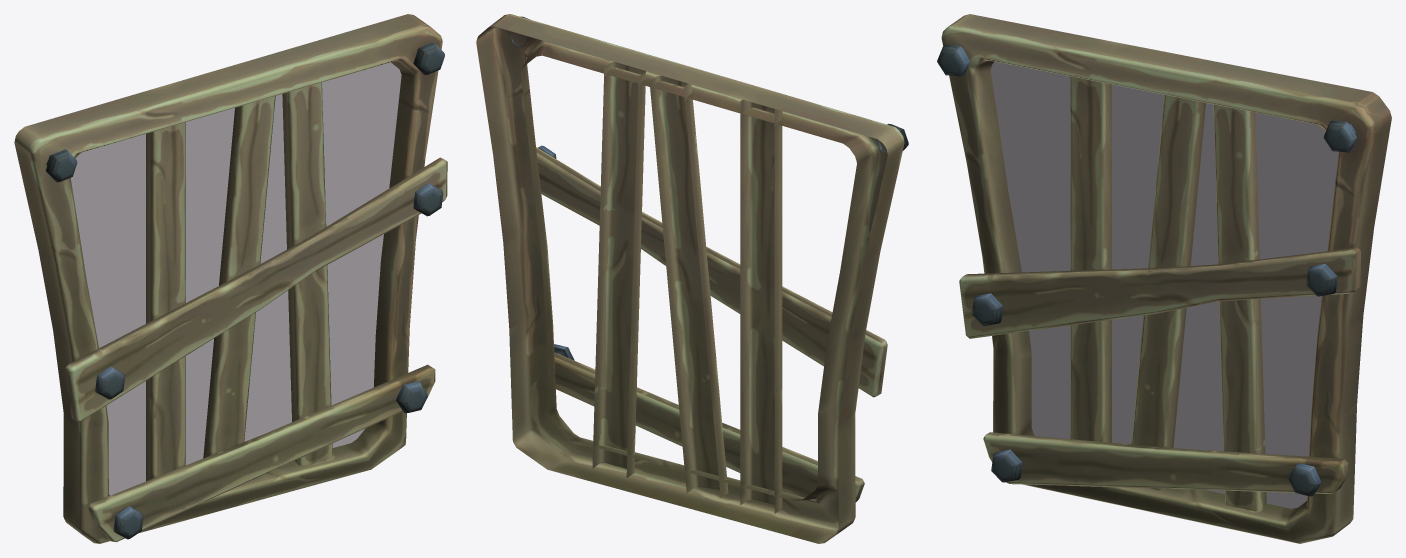
File: SM_Window_01.gltf
3 renders of one model, left to right at view 1: azimuth 30°, elevation 25°; view 2: azimuth 150°, elevation 25°; view 3: azimuth 330°, elevation 25°, orthographic. The views are drawn at different scales.
Parts seen in each view (by area): view 1: SM_Window_01; view 2: SM_Window_01; view 3: SM_Window_01.
Part boxes in pixels (x1,y1,x2,y2): SM_Window_01: (14, 14, 447, 543); SM_Window_01: (476, 14, 908, 543); SM_Window_01: (937, 14, 1391, 543).
Bounding box in the file's own units: 1.18 × 1.2 × 0.1885.
Materials: 2 (2 with a texture image).
